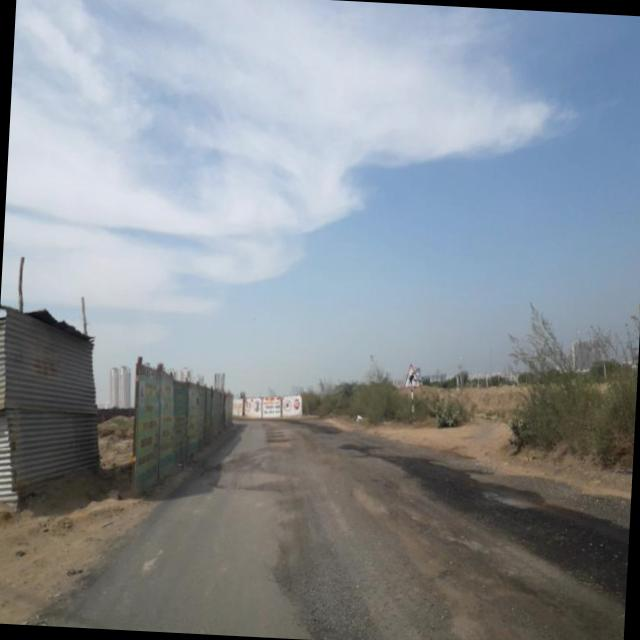pothole: (246, 433, 624, 640)
